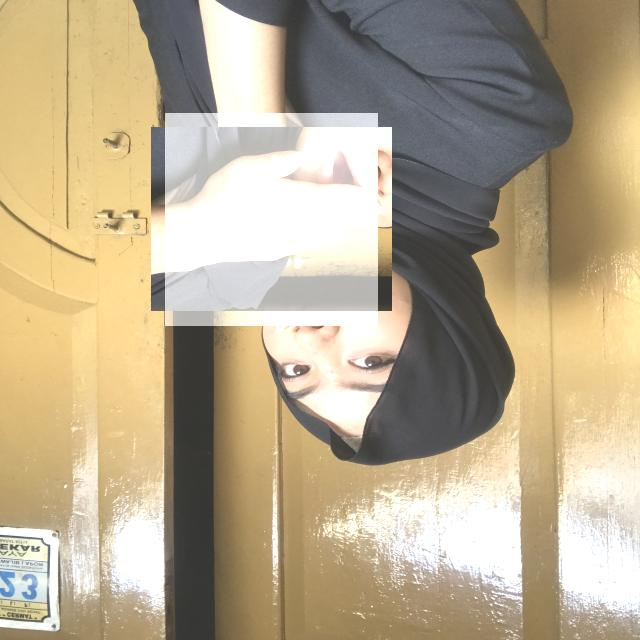ngantuk: (165, 113, 378, 326)
